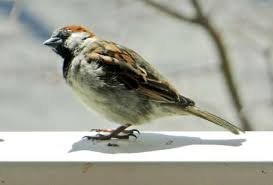hsparrow: (36, 23, 246, 150)
